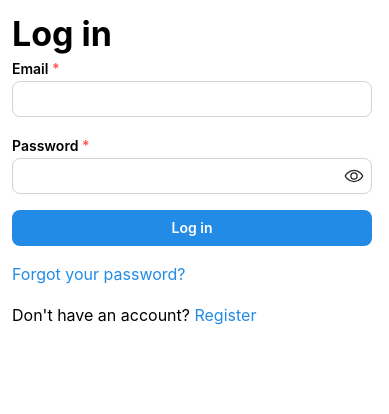
Test case: Login › shows an error message when login fails
Type "user@example.com" into the field labelled "Email *". click: (192, 99)
box: [12,81,372,117]
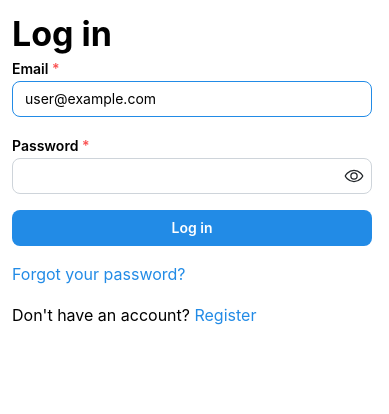
Type "wrong-password" into the password field labelled "Password *". click: (192, 176)
box: [13,159,371,193]
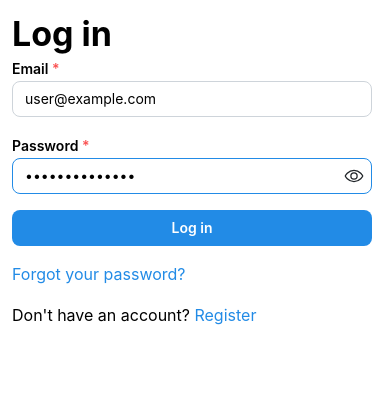
Click the button "Log in". click: (192, 228)
box: [12,210,372,246]
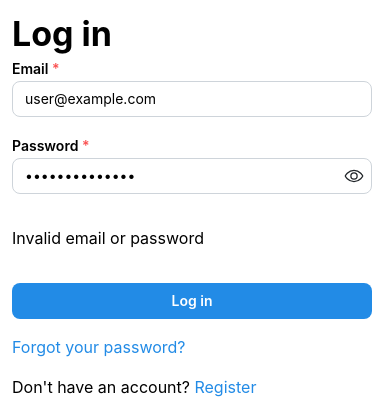
Expected: the message reads "Invalid email or password", [12,228,204,248]
